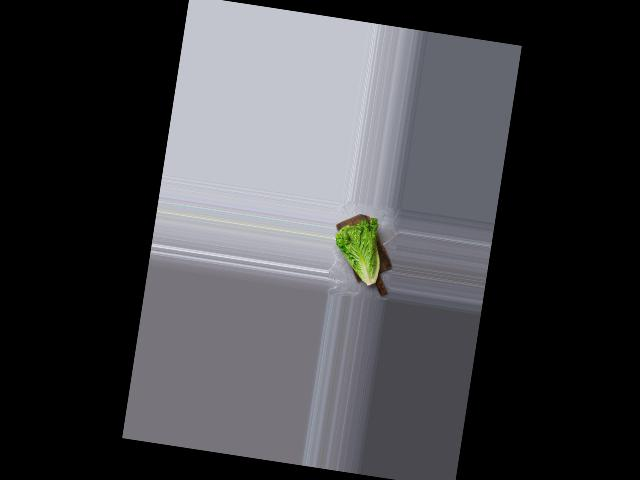lettuce: (329, 212, 394, 290)
